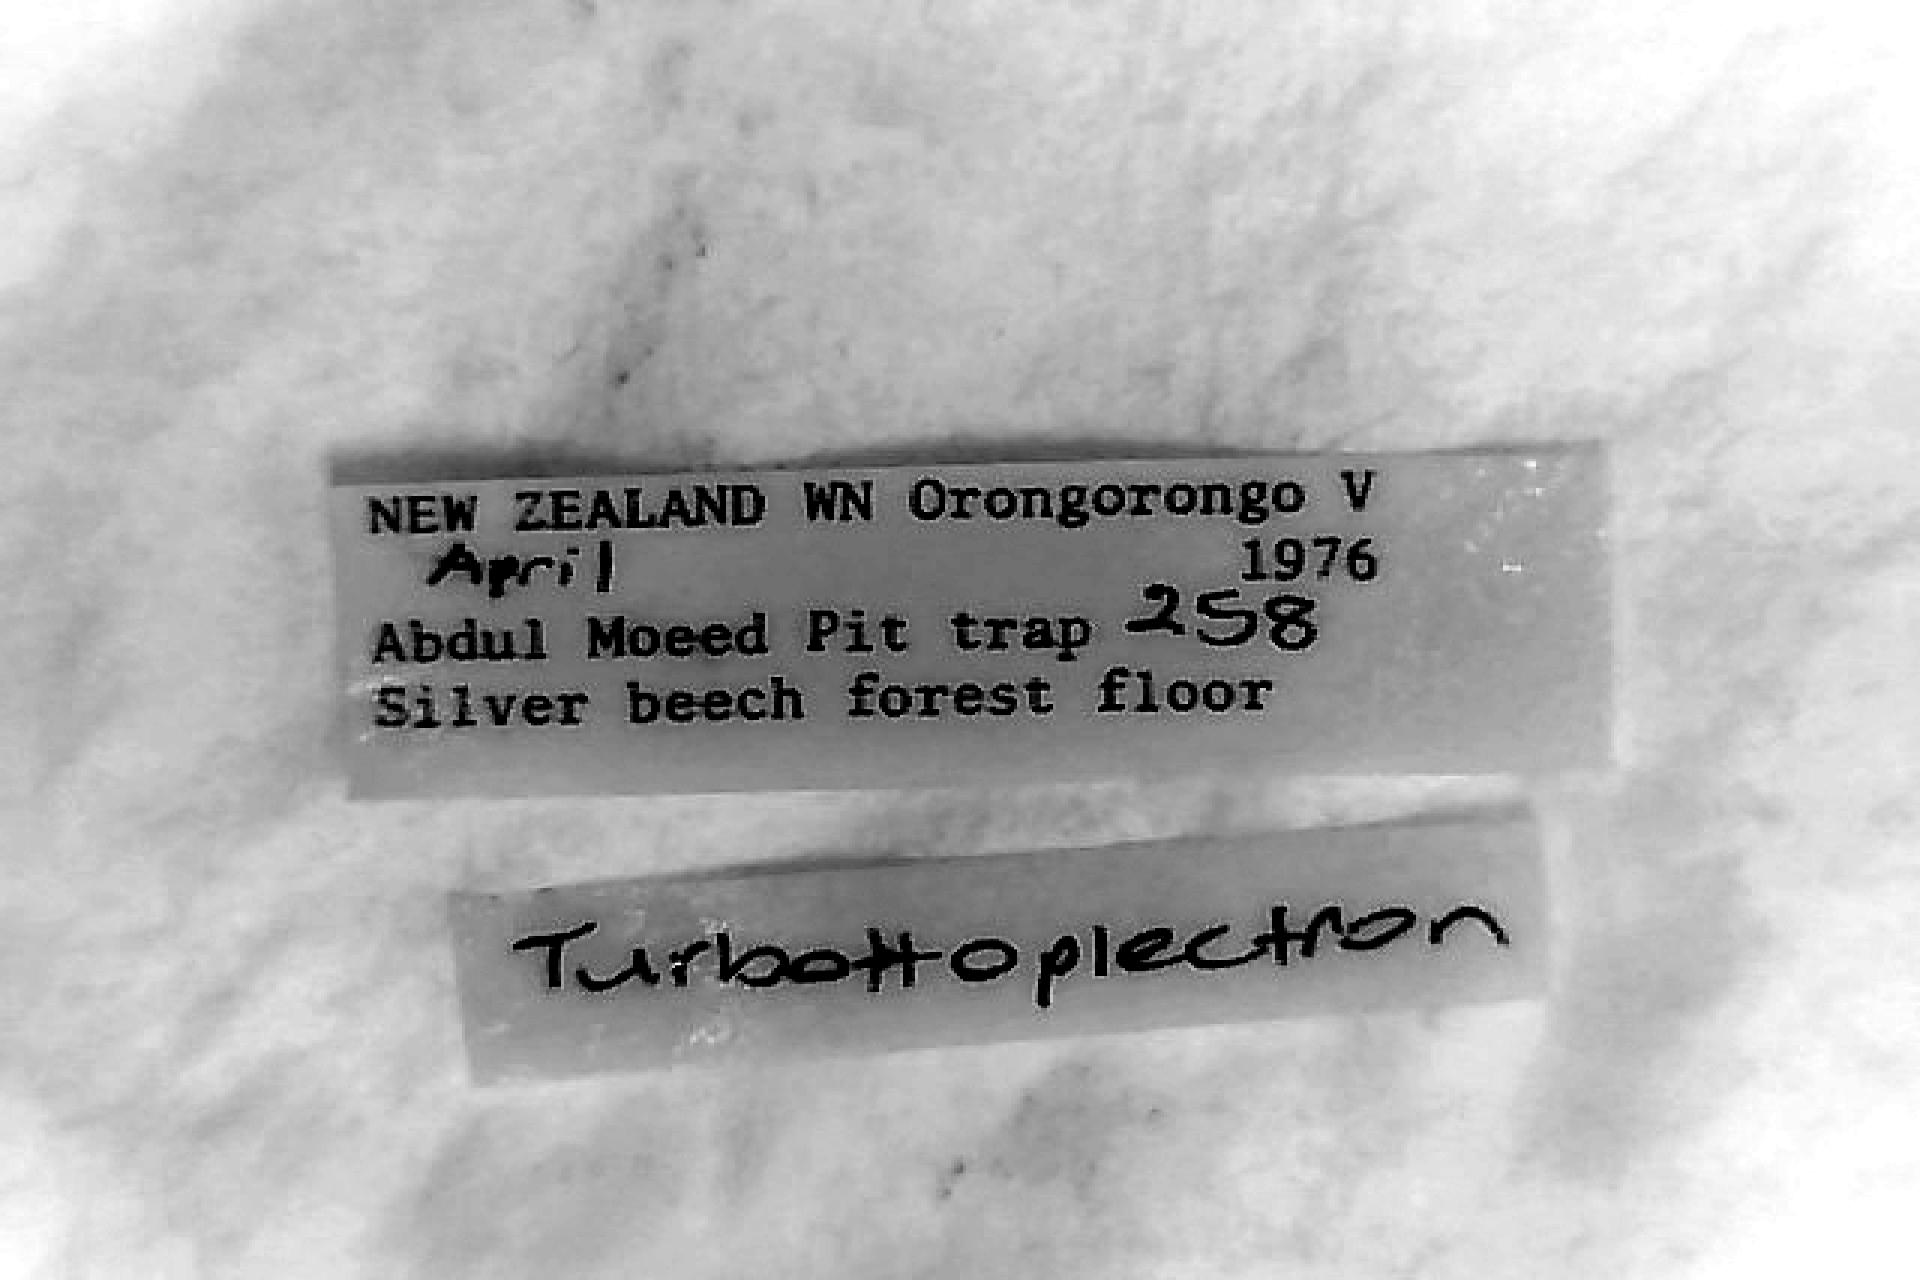hand_label: (454, 810, 1546, 1081)
mixed_label: (334, 447, 1609, 794)
